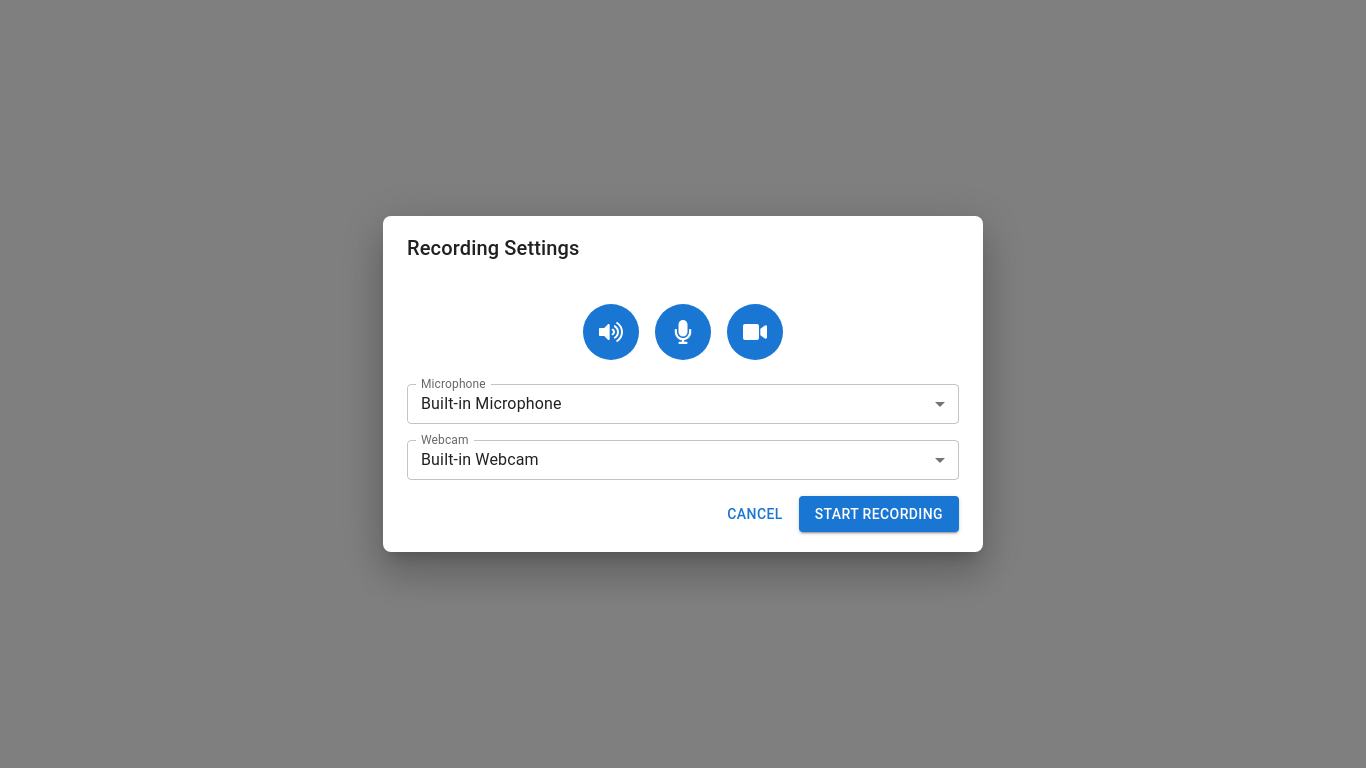
Scenario: RecordingSettingsModal - Icons and Device Selection › icon button rendering › renders microphone icon button with tooltip
Check tooltip appears on hover
Hover over the button with test id "microphone-toggle": (683, 332) [655, 304, 711, 360]
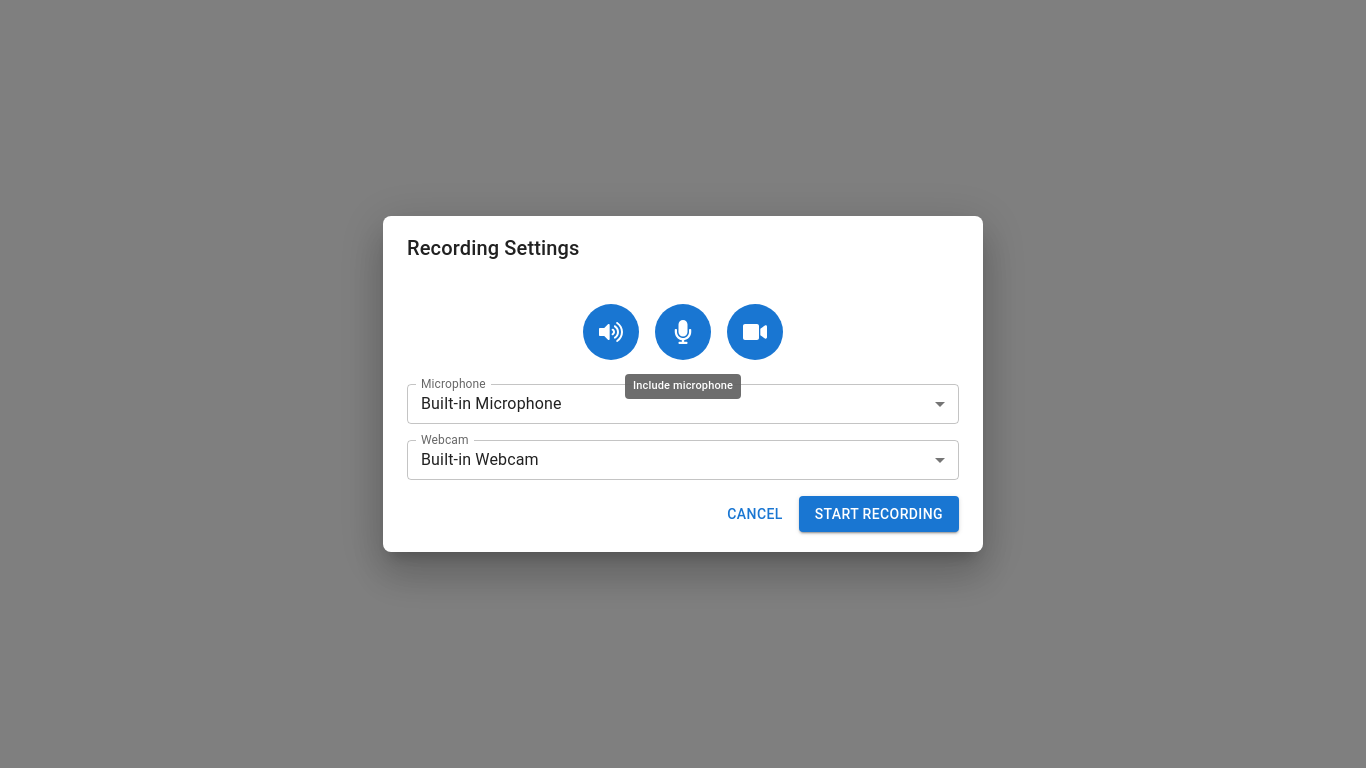
expect the tooltip shows "microphone": met, box [633, 379, 733, 392]
